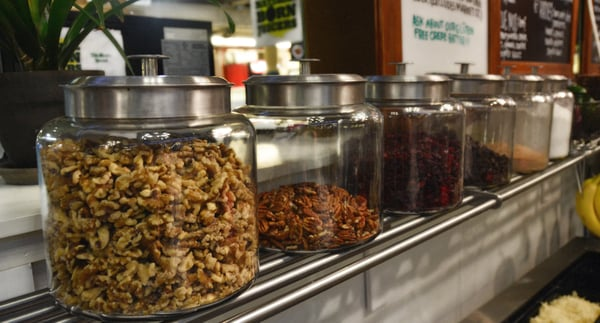pasta: (576, 171, 600, 239)
